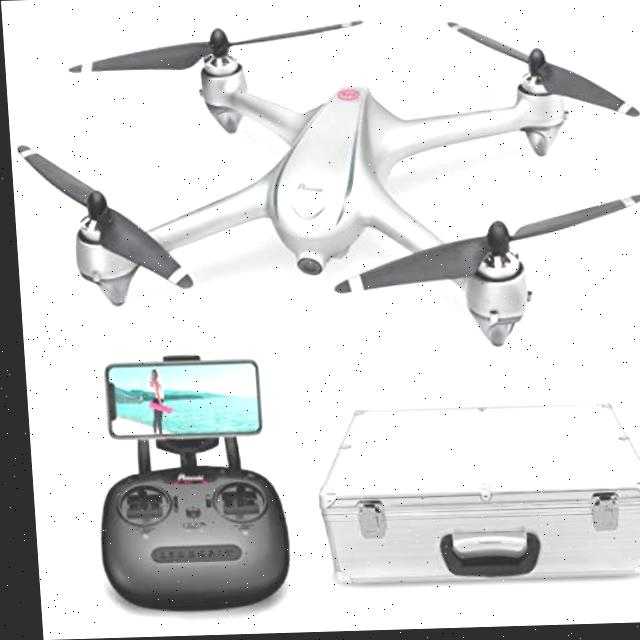drone: (0, 0, 640, 370)
